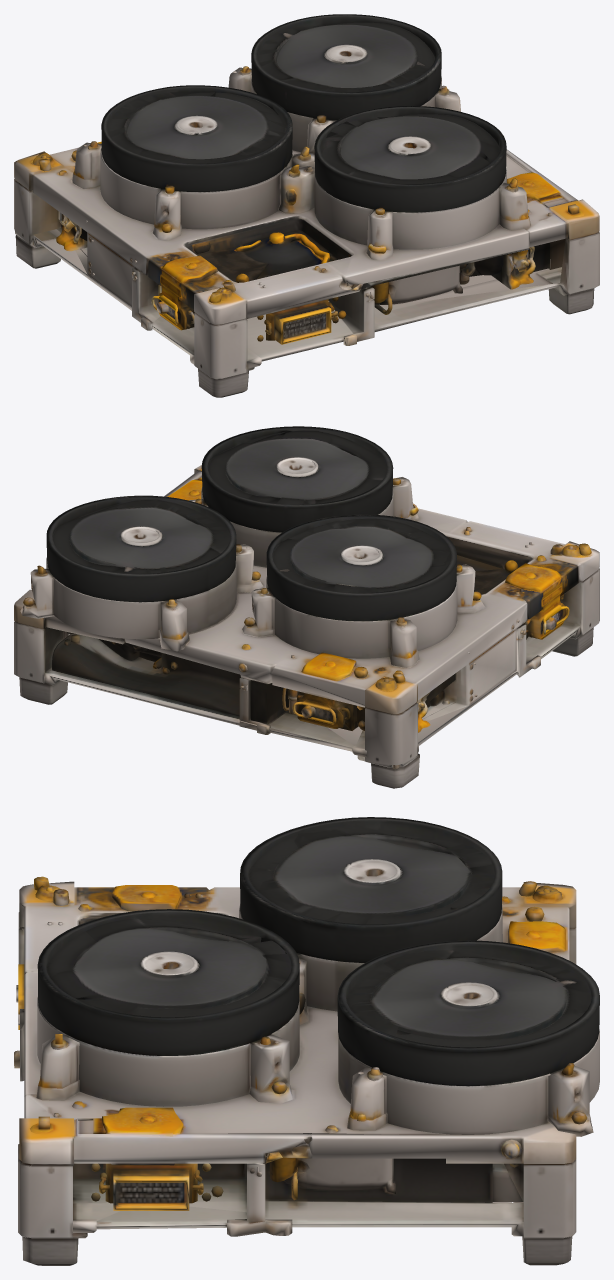
The model's file is sat2_7.fbx.
3 views of the same model, one above another, from view 1: azimuth 30°, elevation 25°; view 2: azimuth 150°, elevation 25°; view 3: azimuth 270°, elevation 25° (orthographic). The views are drawn at different scales.
Visible parts, largest first — view 1: tripo_node_2f6c335e; view 2: tripo_node_2f6c335e; view 3: tripo_node_2f6c335e.
Part boxes in pixels (left/top/right/bottom): tripo_node_2f6c335e: left=14, top=14, right=599, bottom=397; tripo_node_2f6c335e: left=14, top=426, right=599, bottom=788; tripo_node_2f6c335e: left=14, top=817, right=599, bottom=1265.
Bounding box in the file's own units: 0.9995 × 0.3813 × 0.938.
